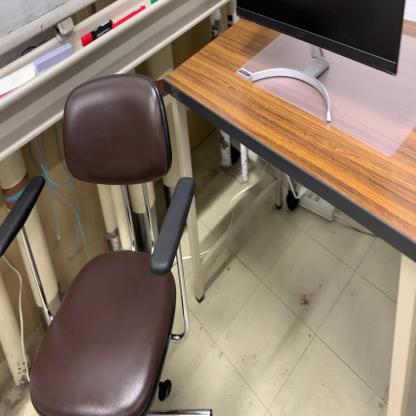chair: (0, 68, 214, 415)
